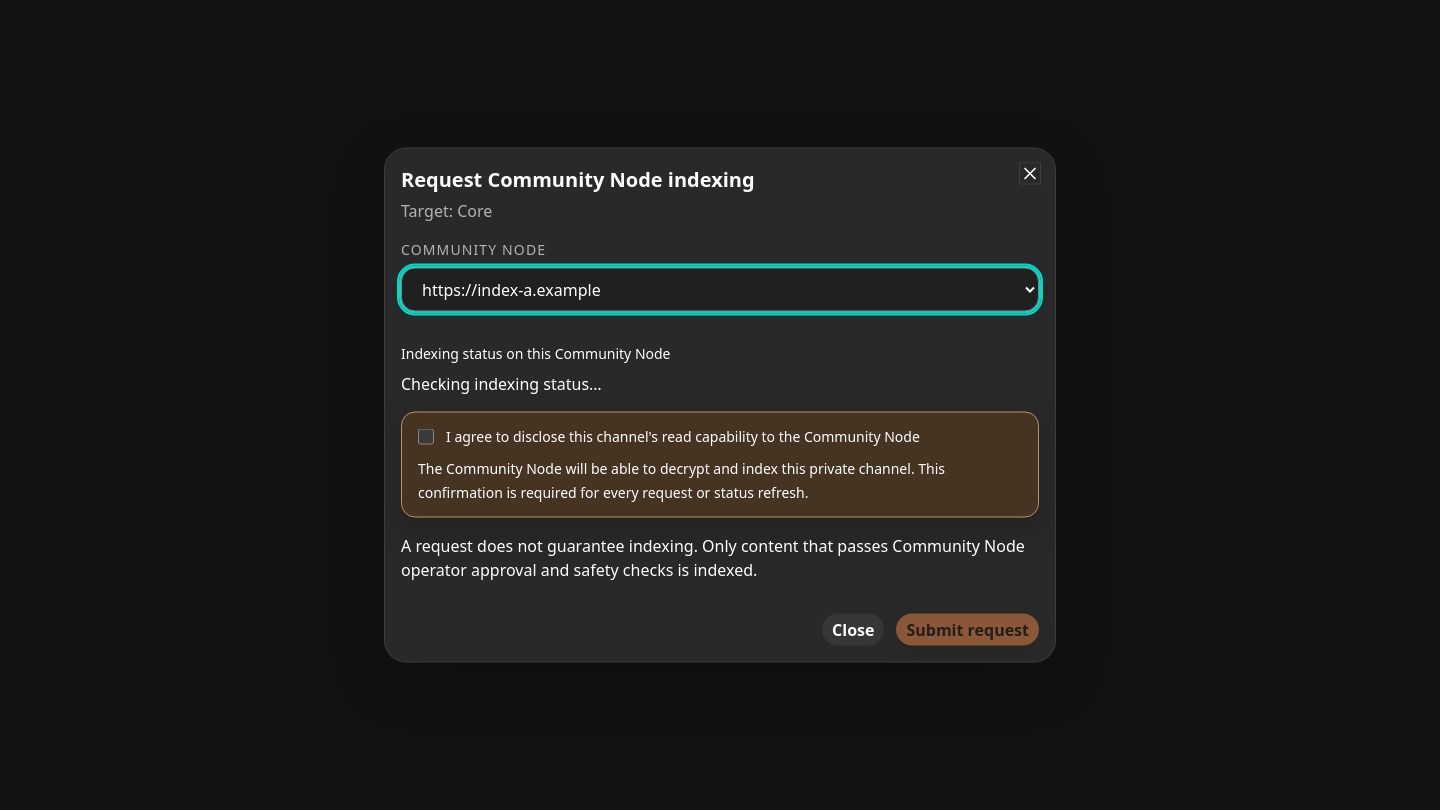
Test case: failed private request consumes confirmation and node change clears the error
Click the checkbox at (426, 436), box left=418, top=428, right=434, bottom=444
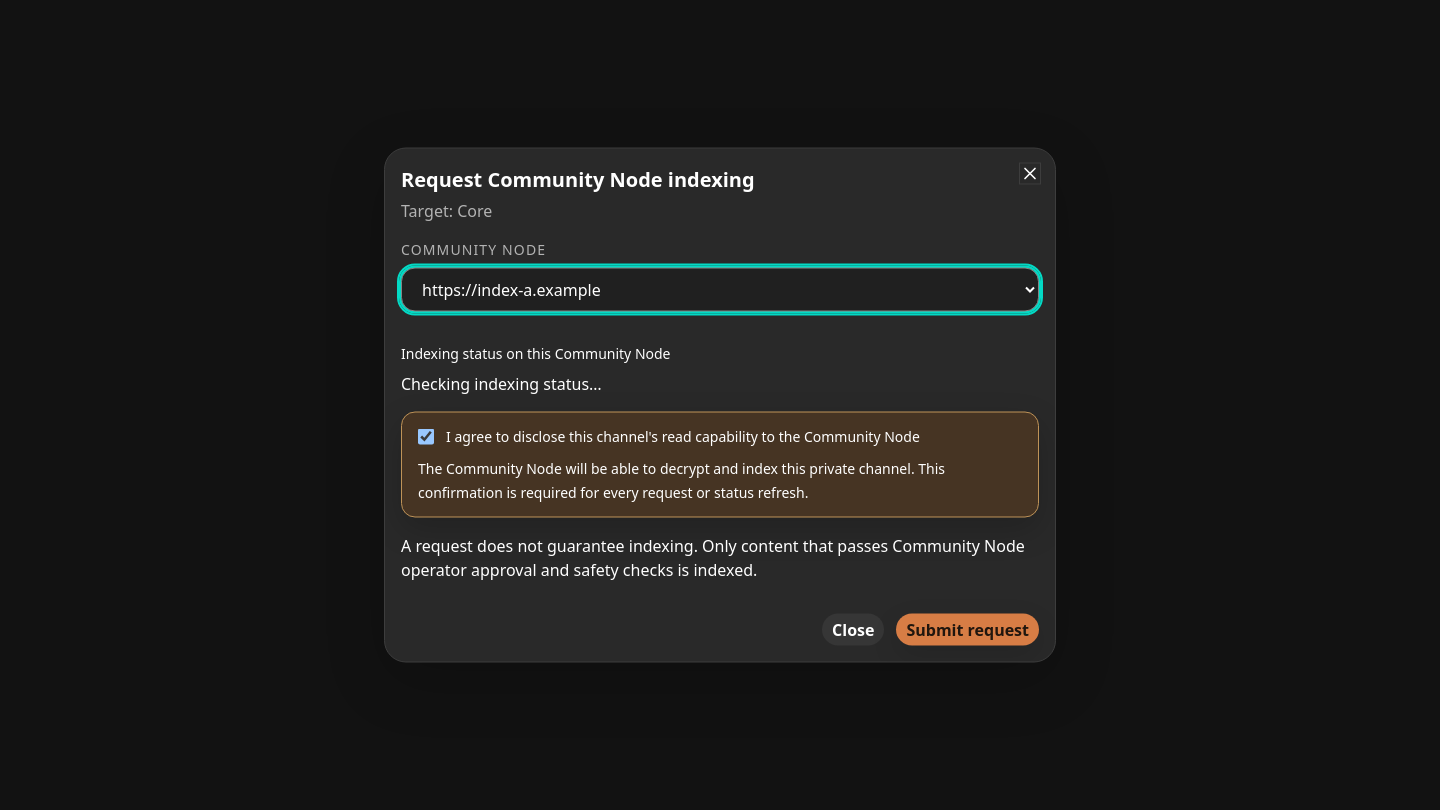
Click the button "Submit request" at (968, 630), box left=896, top=614, right=1039, bottom=646
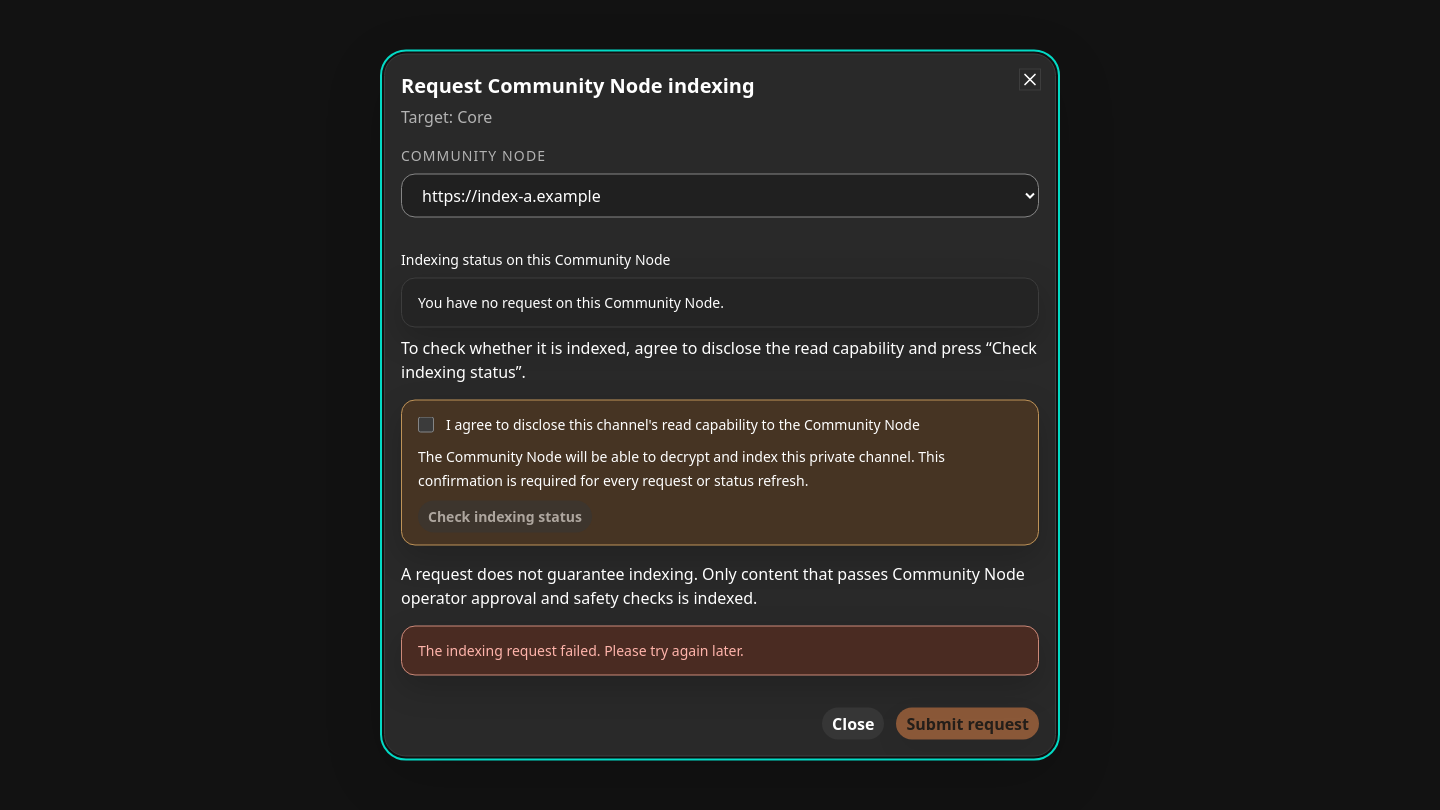
Expected: the checkbox is not checked
Expected: the text "The indexing request failed. Please try again later." is shown, left=401, top=626, right=1039, bottom=676
Expected: the button "Submit request" is disabled, left=896, top=708, right=1039, bottom=740
Click the checkbox at (426, 424), box left=418, top=416, right=434, bottom=432
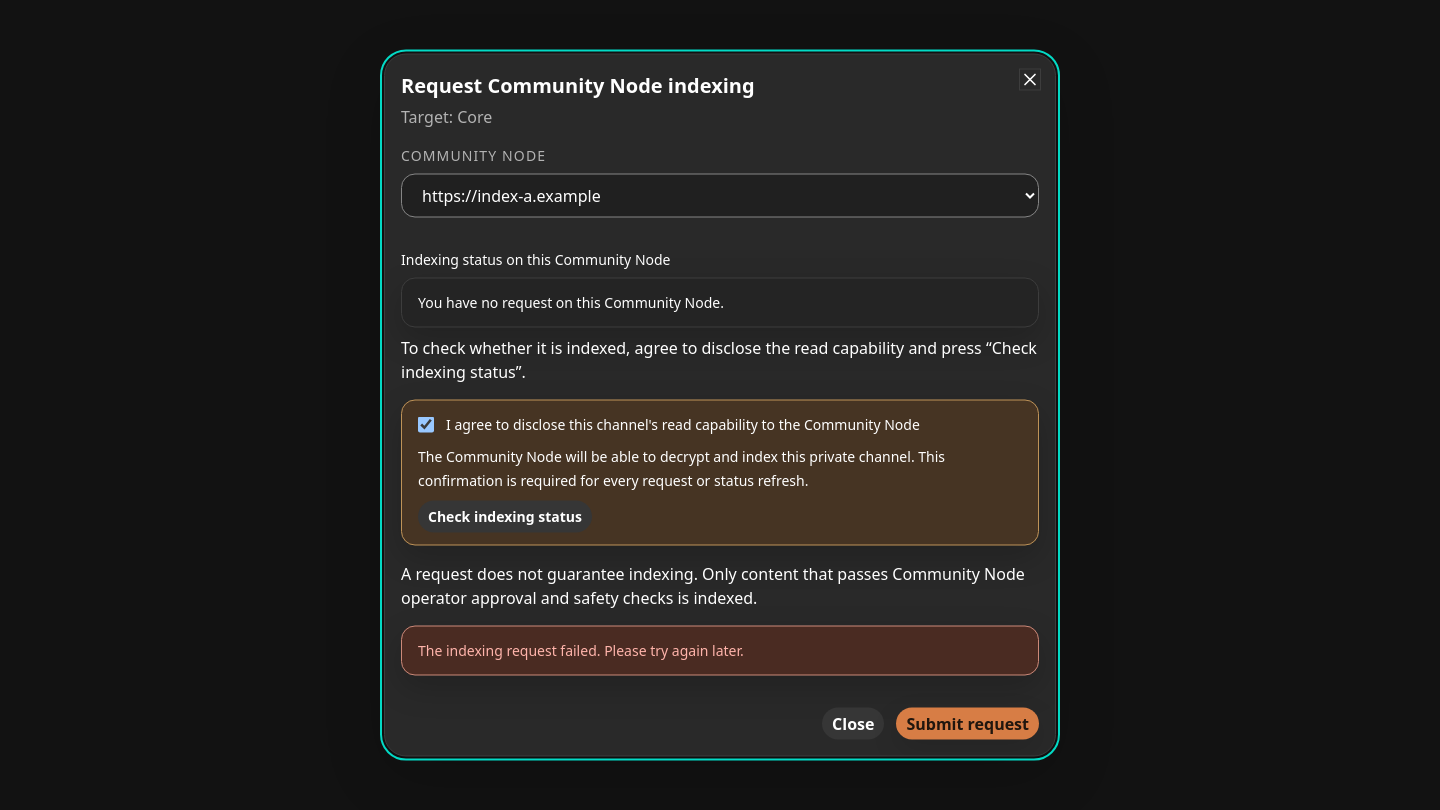
Select "https://index-b.example" in the dropdown labelled "Community Node" at (720, 196), box left=401, top=174, right=1039, bottom=218
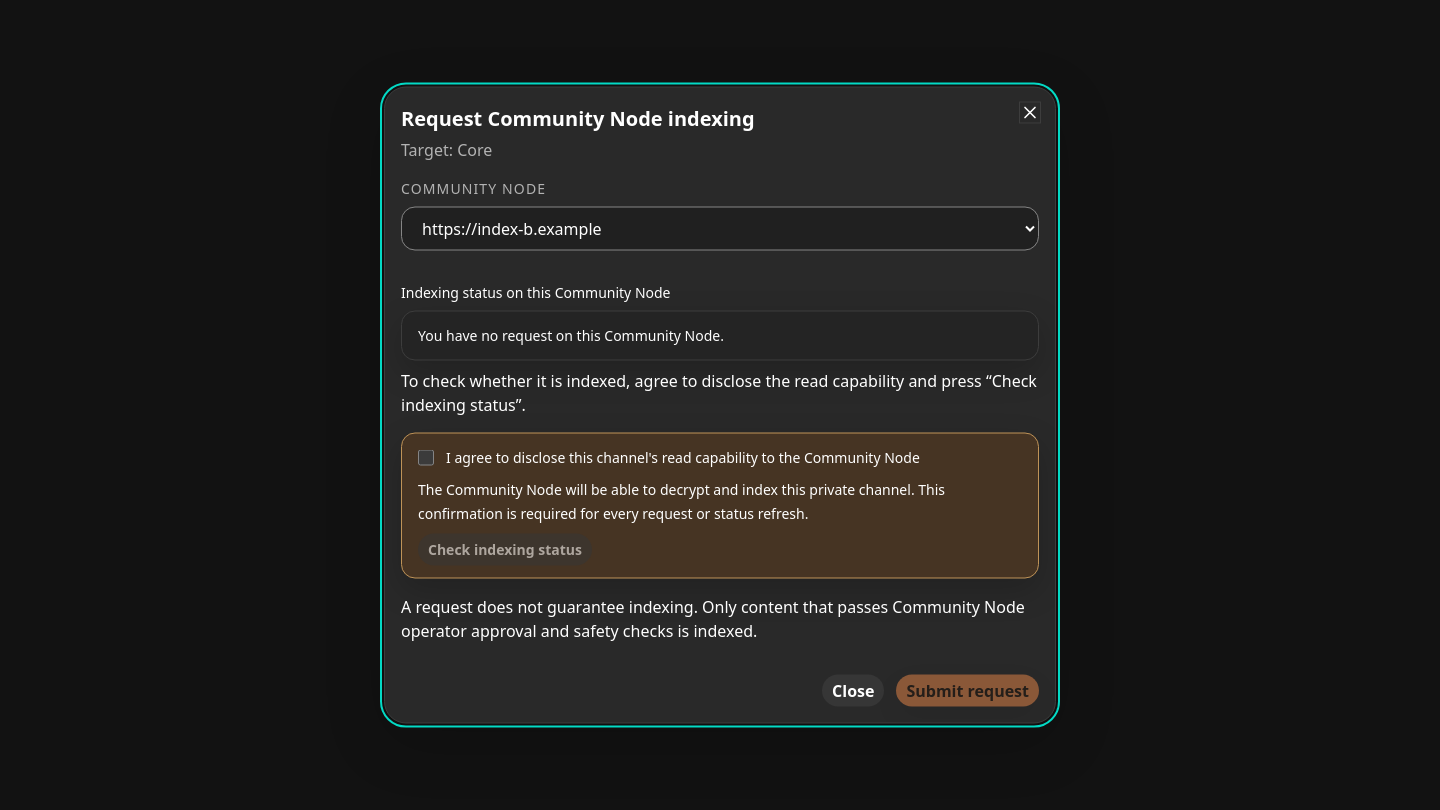
Expected: the checkbox is not checked, left=418, top=450, right=434, bottom=466
Expected: the button "Submit request" is disabled, left=896, top=674, right=1039, bottom=706
Expected: the text "The indexing request failed. Please try again later." is gone
